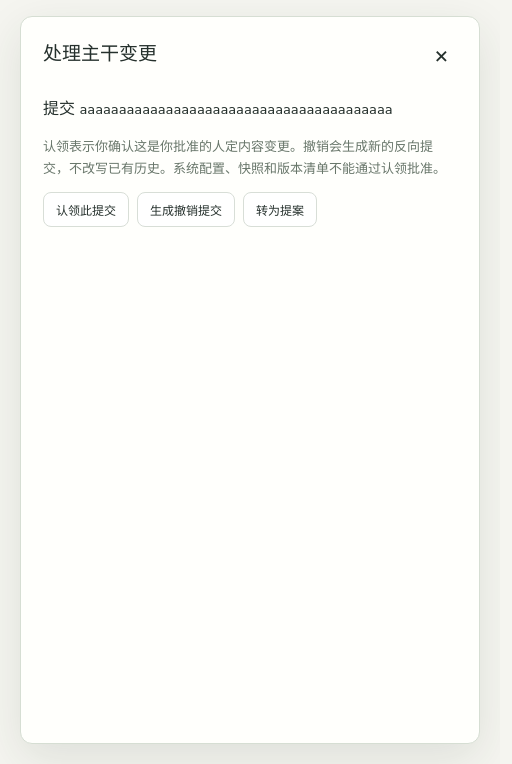
Test: shows the exact diff and waits for a separate explicit confirmation
Click the button "认领此提交" at point(86, 210), box [43,192,129,227]
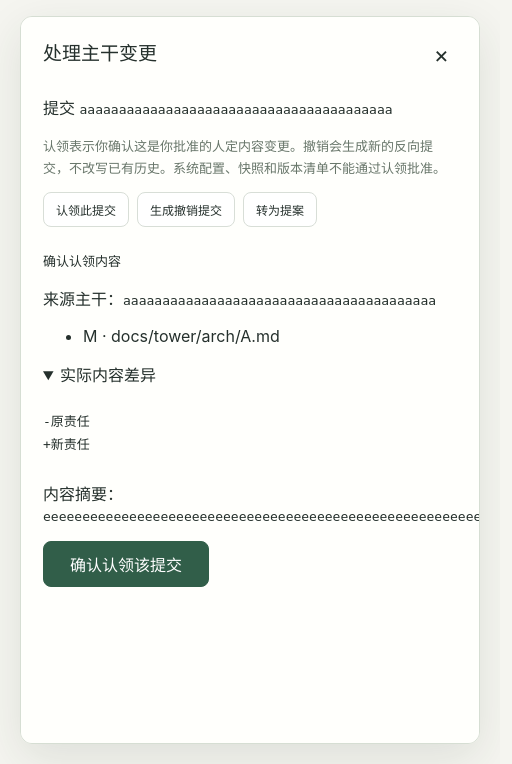
Check: the button "确认认领该提交" is shown, box [43,541,209,587]
